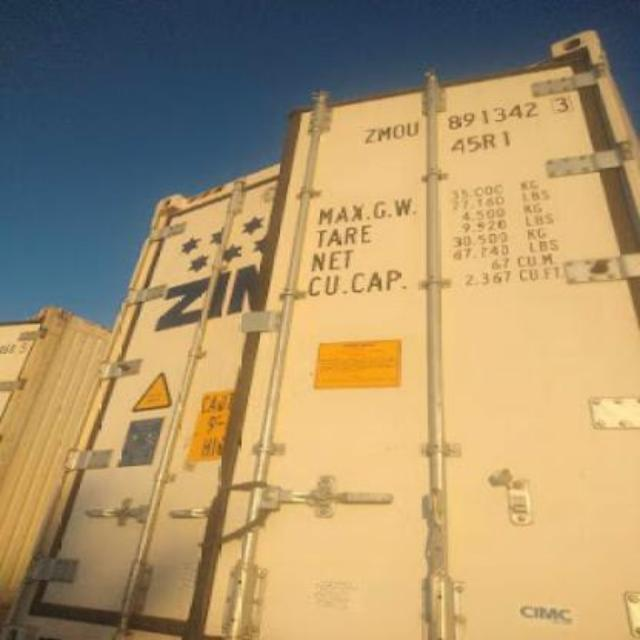1: (474, 104, 492, 125)
2: (522, 95, 540, 122)
3: (488, 94, 508, 124), (550, 93, 572, 113)
4: (508, 98, 524, 124)
8: (442, 106, 462, 132)
9: (460, 100, 476, 130)
M: (376, 118, 392, 144)
O: (391, 118, 404, 146)
U: (406, 115, 419, 141)
Z: (358, 119, 378, 145)
